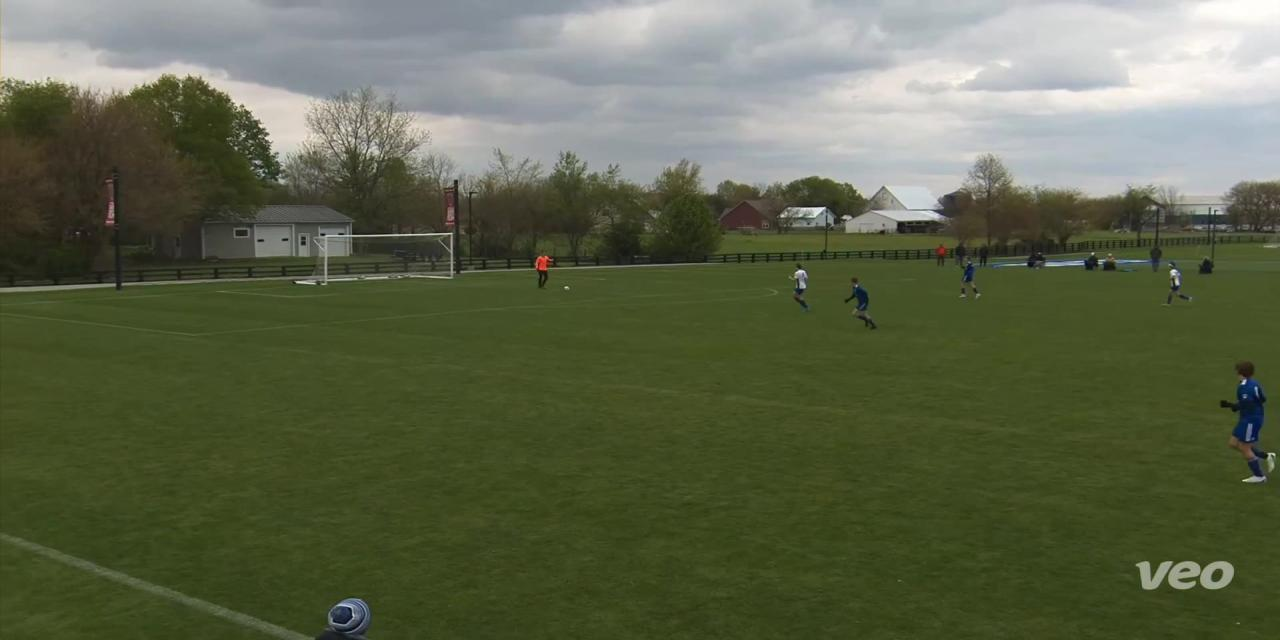goal: (291, 220, 470, 294)
sports ball: (557, 281, 574, 296)
